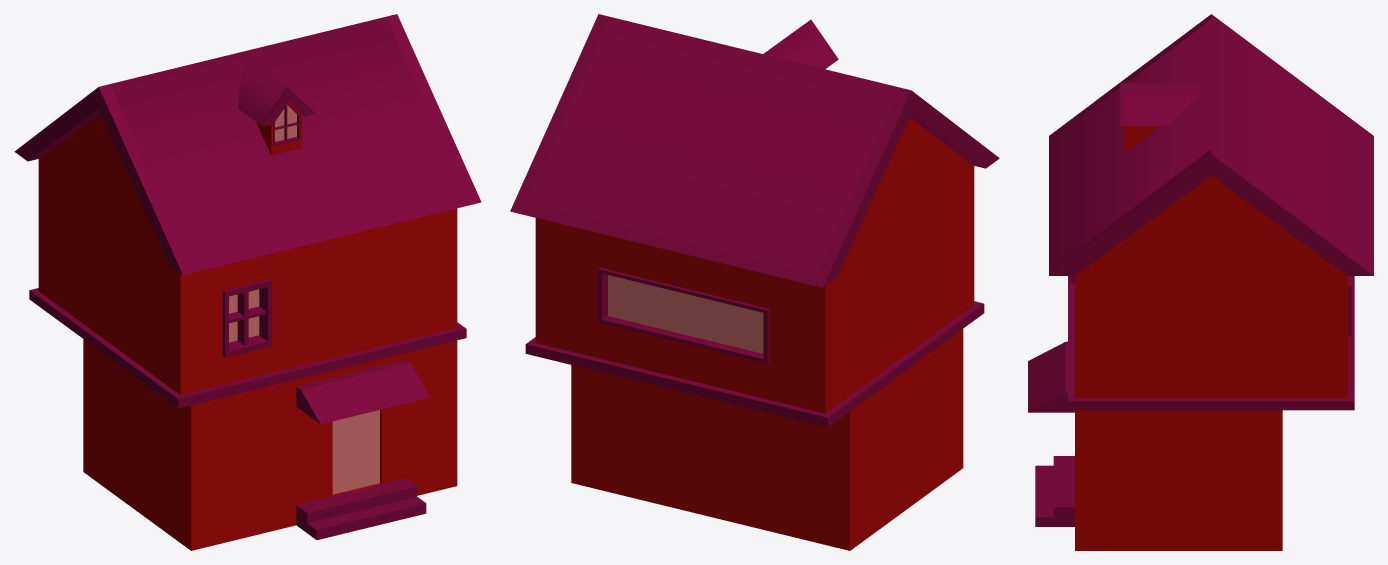
The model's file is townHouse_var1_RED.fbx.
3 renders of one model, left to right at view 1: azimuth 30°, elevation 25°; view 2: azimuth 150°, elevation 25°; view 3: azimuth 270°, elevation 25°, orthographic. The views are drawn at different scales.
Visible parts, largest first — view 1: pCube1, pCube2; view 2: pCube1, pCube2; view 3: pCube1, pCube2.
Part boxes in pixels (x1=…): pCube1: x1=14, y1=14, x2=481, y2=550; pCube2: x1=238, y1=54, x2=315, y2=155; pCube1: x1=510, y1=14, x2=999, y2=550; pCube2: x1=763, y1=19, x2=838, y2=69; pCube1: x1=1028, y1=14, x2=1373, y2=550; pCube2: x1=1120, y1=82, x2=1208, y2=152.
Bounding box in the file's own units: 159 × 213 × 166.
